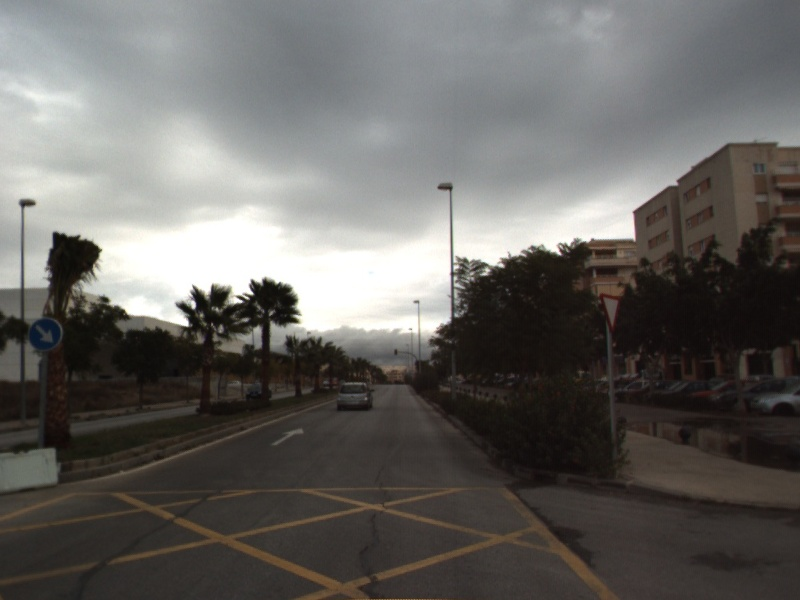STRAIGHT: (270, 425, 306, 447)
